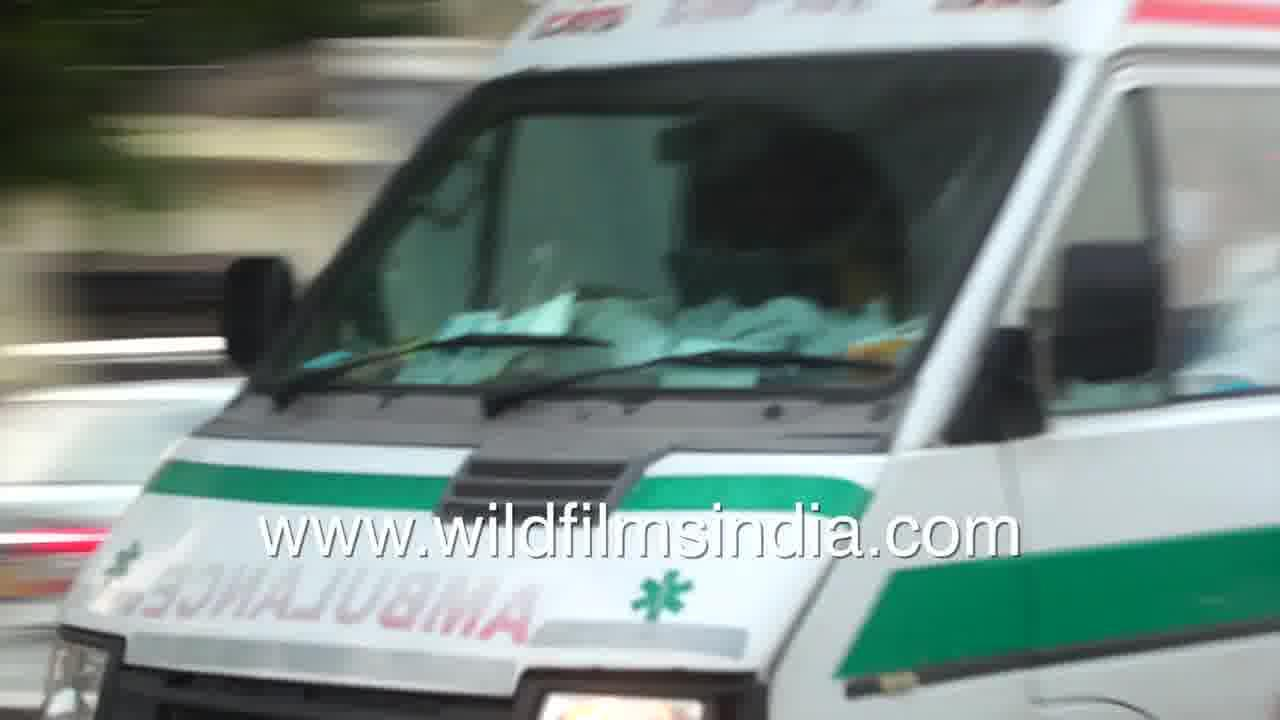AMBULANCE: (93, 33, 1280, 488)
